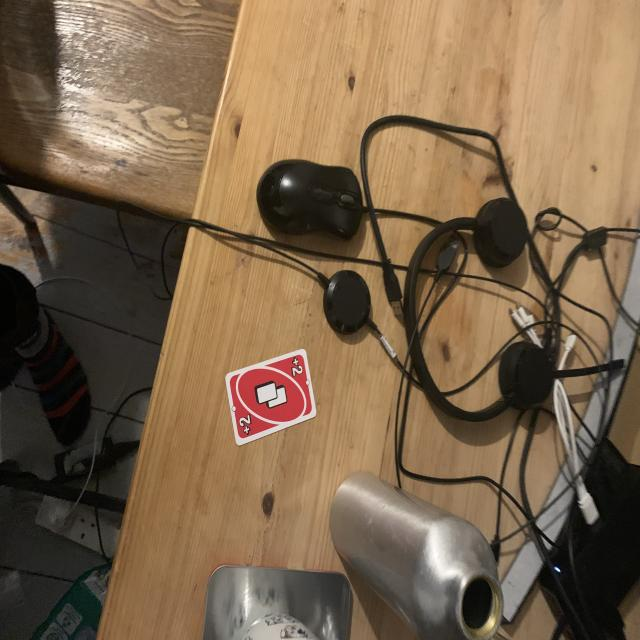lred-20: (287, 356, 305, 381)
